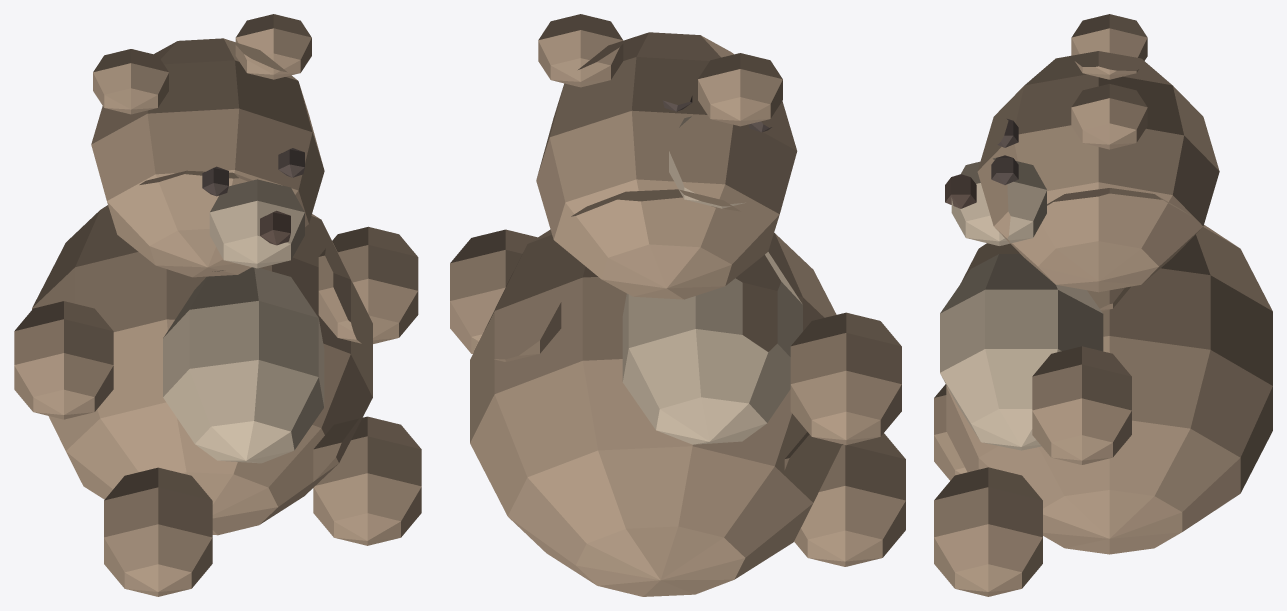
Rendered from bear.glb.
The picture shows the model from 3 angles, left to right: view 1: azimuth 30°, elevation 25°; view 2: azimuth 150°, elevation 25°; view 3: azimuth 270°, elevation 25°; orthographic projection. The views are drawn at different scales.
Visible parts, largest first — view 1: body; view 2: body; view 3: body.
Boxes of the visible parts, bbox=[...] form: body: bbox=[14, 14, 421, 596]; body: bbox=[450, 14, 905, 596]; body: bbox=[934, 14, 1272, 596].
Bounding box in the file's own units: 0.8492 × 0.976 × 0.6155.
